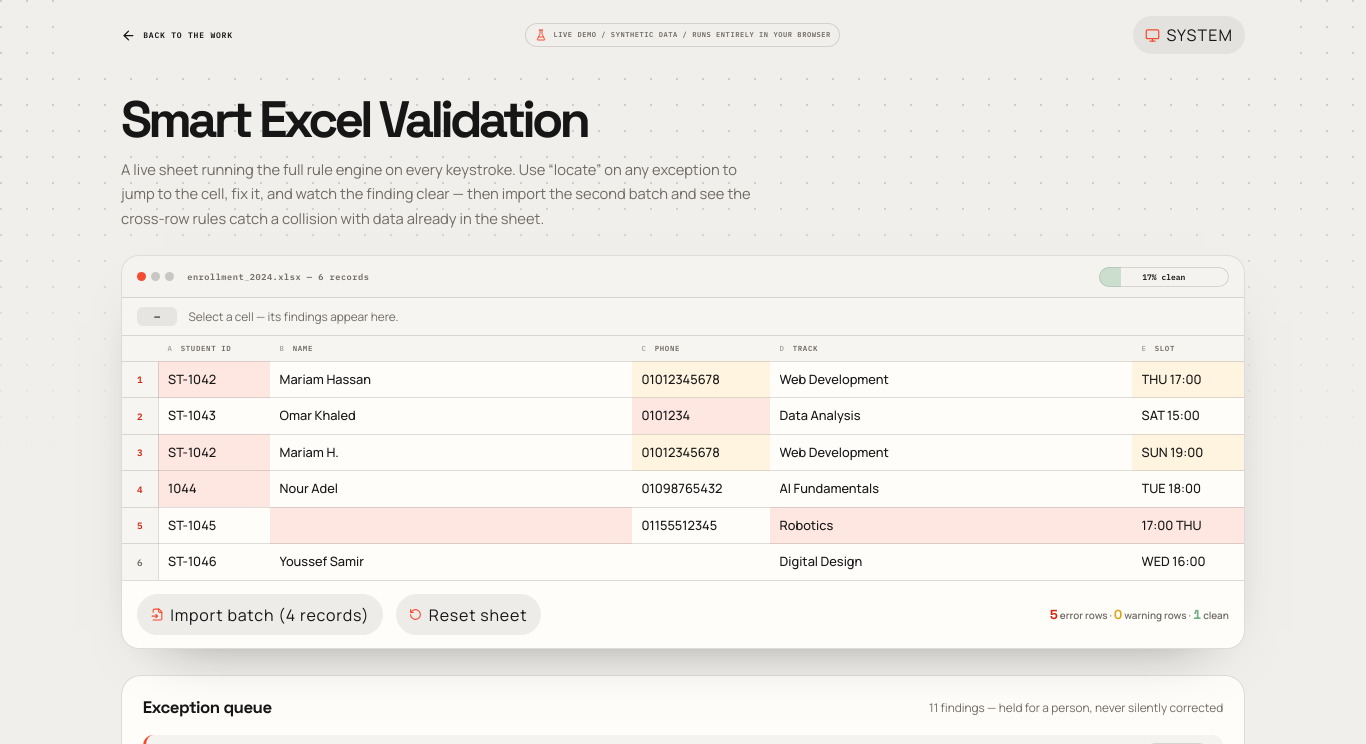
Test: validation demo import › importing the batch surfaces a cross-batch duplicate
Click the button "Import batch (4 records)": (260, 615) x1=137 y1=594 x2=383 y2=635
(page scrolled)
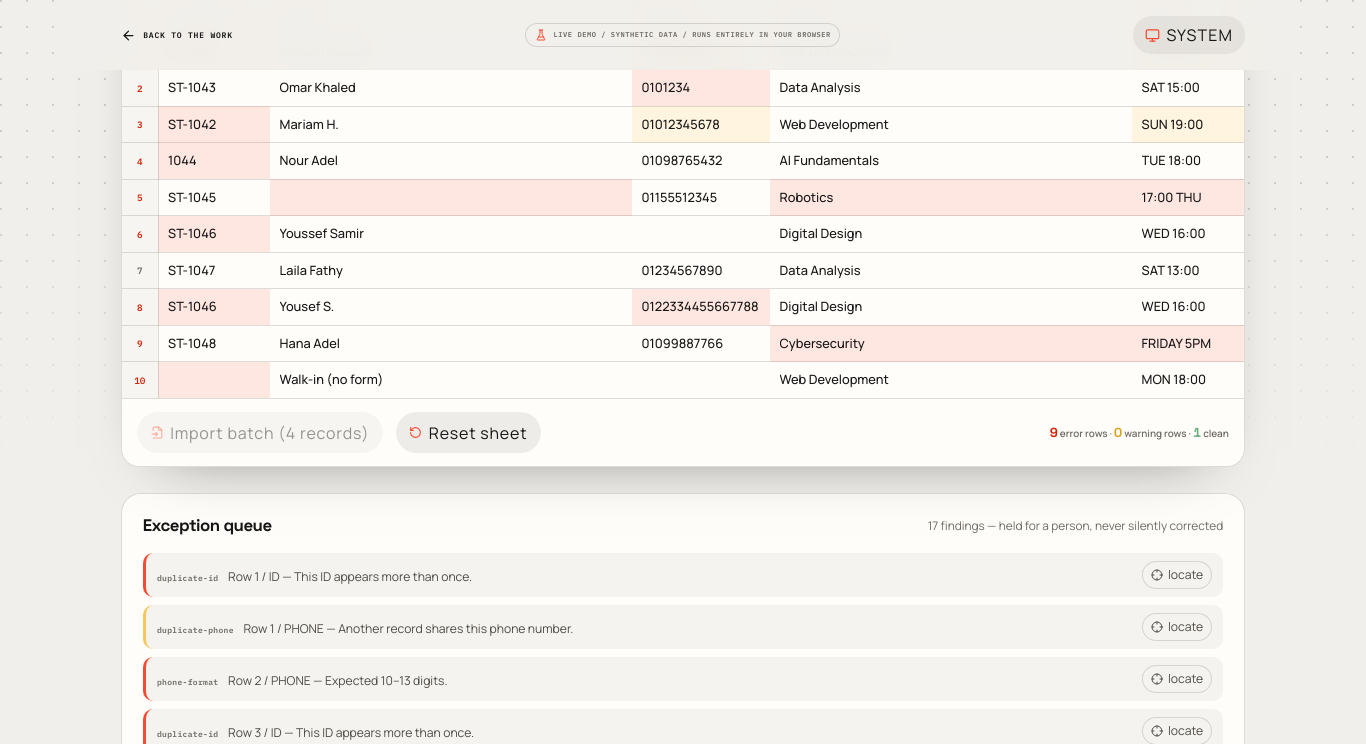
Expected: the button "Import batch (4 records)" is disabled, x1=137 y1=412 x2=383 y2=453
